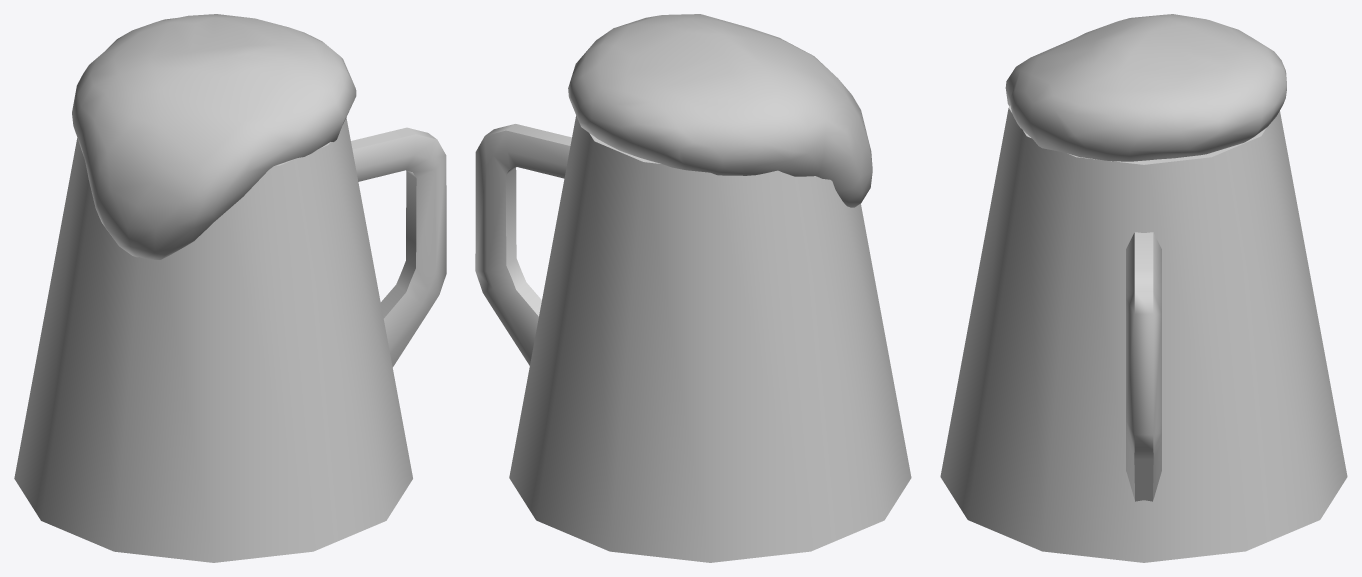
File: BeerJug_01.fbx
3 views of the same model, side by side, from view 1: azimuth 30°, elevation 25°; view 2: azimuth 150°, elevation 25°; view 3: azimuth 270°, elevation 25° (orthographic). The views are drawn at different scales.
Visible parts, largest first — view 1: BeerJug_01; view 2: BeerJug_01; view 3: BeerJug_01.
Part boxes in pixels (x1,y1,x2,y2): BeerJug_01: [14, 14, 446, 562]; BeerJug_01: [475, 14, 911, 562]; BeerJug_01: [940, 14, 1347, 562].
Size of the model in its own units: 0.2461 by 0.2524 by 0.212.
